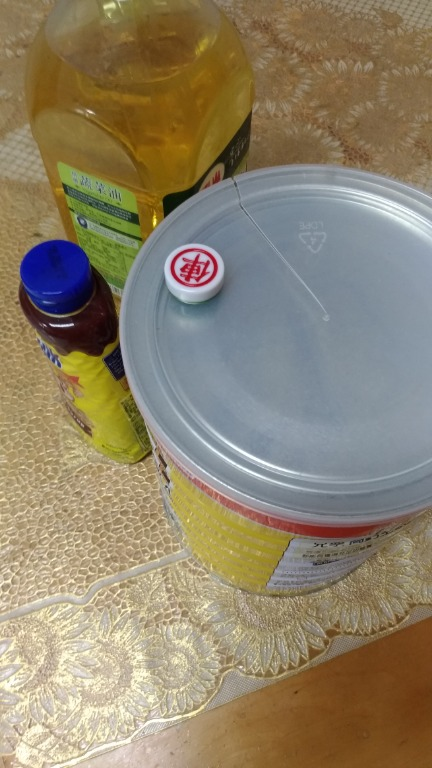r-rook: (153, 237, 248, 308)
